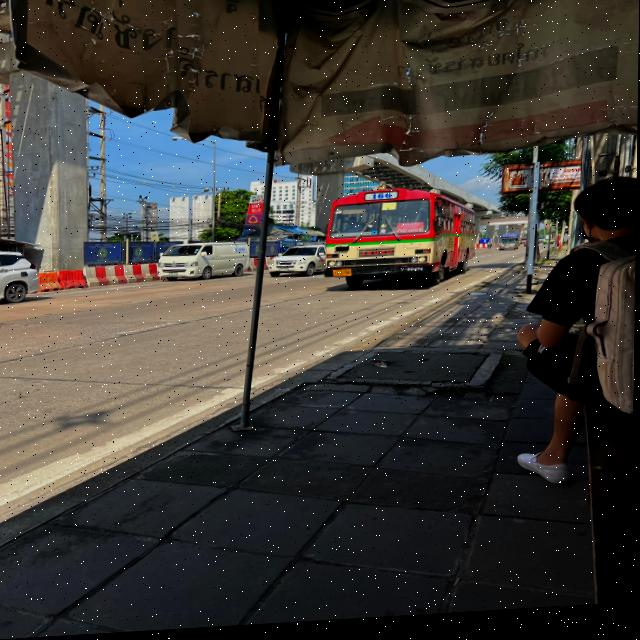BMTA-bus: (323, 186, 480, 297)
Bus-Line-Number: (365, 196, 400, 205)
Destination-Sign-Normal: (397, 228, 424, 238)
